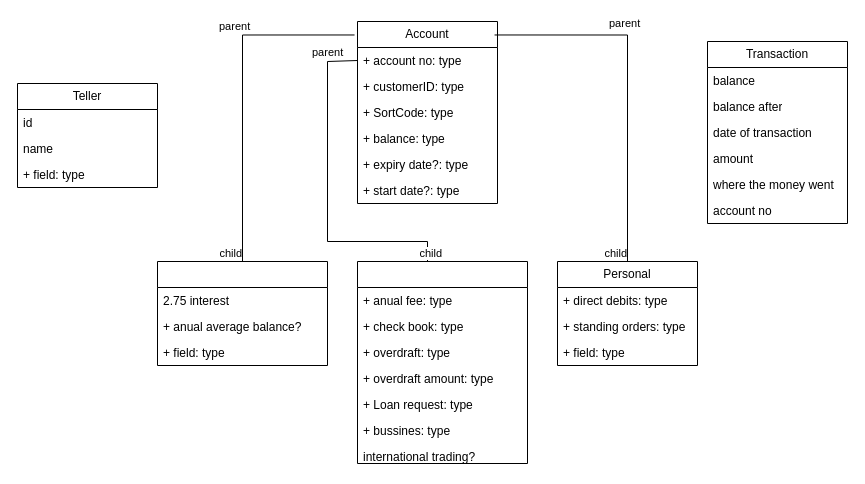
Some shapes in this 865 by 484 pixel diagram are drawn without their labels. The box of each missing label's shape, as (x1, y1, x2, y2) in pixels:
Bussiness: (356, 260, 528, 464)
ISA: (156, 260, 328, 366)
